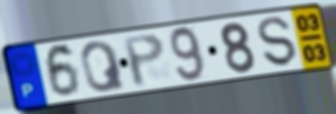6: (42, 42, 83, 101)
8: (219, 20, 258, 75)
9: (169, 24, 208, 84)
P: (121, 32, 167, 90)
Q: (78, 39, 128, 94)
S: (256, 15, 300, 68)
